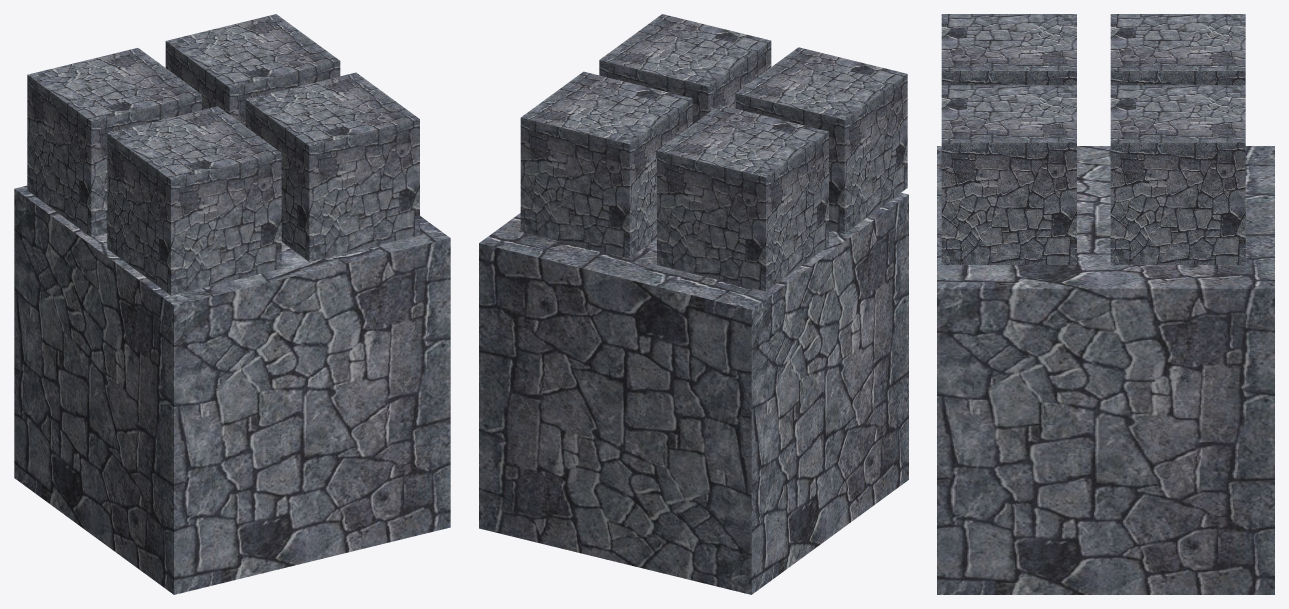
The model's file is floating-pillar.obj.
3 renders of one model, left to right at view 1: azimuth 30°, elevation 25°; view 2: azimuth 150°, elevation 25°; view 3: azimuth 270°, elevation 25°, orthographic. The views are drawn at different scales.
Visible parts, largest first — view 1: Cube, Cube.002, Cube.003, Cube.001_Cube.005, Cube.004; view 2: Cube, Cube.001_Cube.005, Cube.004, Cube.002, Cube.003; view 3: Cube, Cube.004, Cube.003, Cube.001_Cube.005, Cube.002.
Part boxes in pixels (x1,y1,x2,y2): Cube: (14, 185, 450, 594); Cube.002: (107, 106, 281, 295); Cube.003: (245, 72, 419, 261); Cube.001_Cube.005: (27, 48, 201, 237); Cube.004: (165, 14, 340, 125); Cube: (479, 192, 908, 594); Cube.001_Cube.005: (657, 105, 828, 291); Cube.004: (520, 71, 692, 258); Cube.002: (735, 47, 907, 233); Cube.003: (599, 14, 771, 124); Cube: (937, 146, 1274, 594); Cube.004: (1110, 85, 1245, 264); Cube.003: (941, 85, 1076, 264); Cube.001_Cube.005: (1110, 14, 1245, 85); Cube.002: (941, 14, 1076, 85).
Bounding box in the file's own units: 2.01 × 2.86 × 2.
2 materials, 2 textured.
